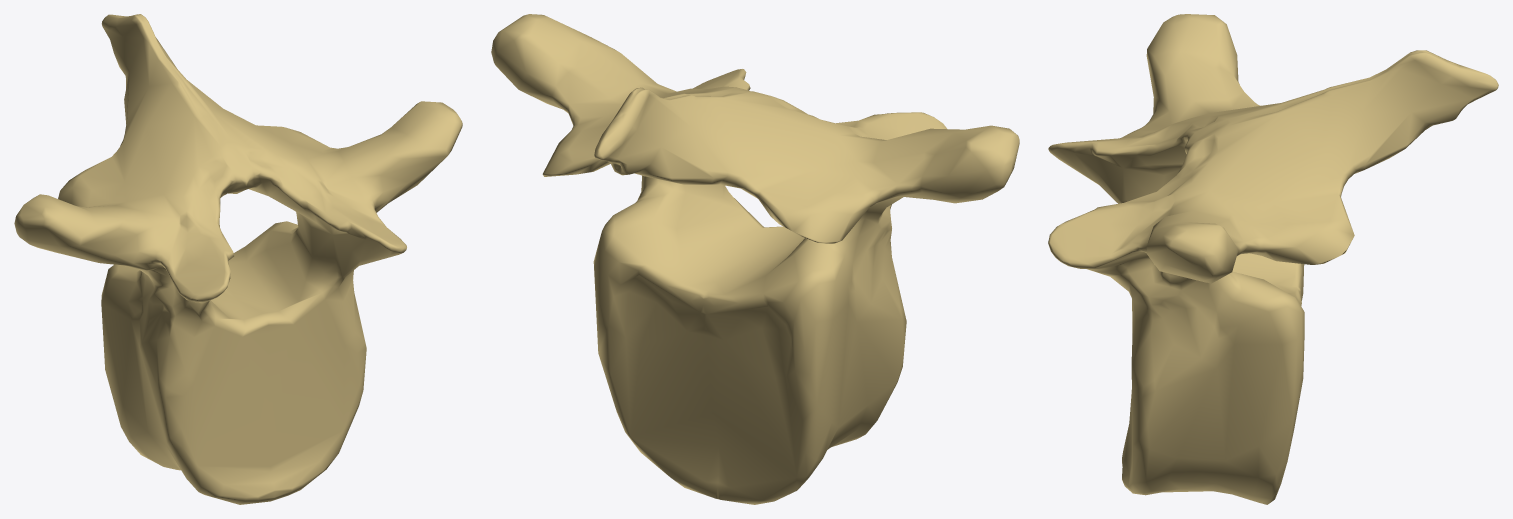
3 renders of one model, left to right at view 1: azimuth 30°, elevation 25°; view 2: azimuth 150°, elevation 25°; view 3: azimuth 270°, elevation 25°, orthographic. The views are drawn at different scales.
Visible parts, largest first — view 1: 第七胸椎; view 2: 第七胸椎; view 3: 第七胸椎.
Boxes of the visible parts, bbox=[...] form: 第七胸椎: bbox=[14, 14, 462, 504]; 第七胸椎: bbox=[491, 14, 1019, 504]; 第七胸椎: bbox=[1048, 14, 1498, 504].
Bounding box in the file's own units: 0.1129 × 0.0981 × 0.0911.
